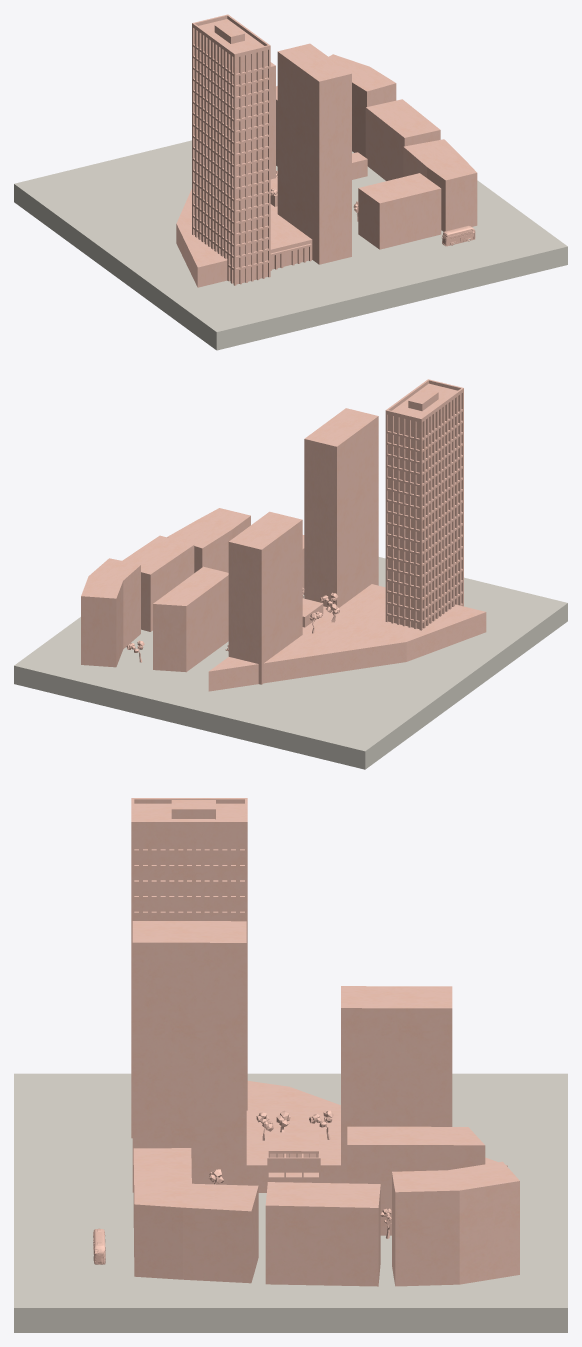
The picture shows the model from 3 angles, top to bottom: view 1: azimuth 30°, elevation 25°; view 2: azimuth 150°, elevation 25°; view 3: azimuth 270°, elevation 25°; orthographic projection. The views are drawn at different scales.
Visible parts, largest first — view 1: Buildings, Base, Bus; view 2: Buildings, Base; view 3: Buildings, Base.
Part boxes in pixels (left/top/right/bottom): Buildings: left=176, top=14, right=477, bottom=287; Base: left=14, top=140, right=567, bottom=350; Bus: left=441, top=225, right=475, bottom=246; Buildings: left=81, top=379, right=486, bottom=691; Base: left=14, top=557, right=567, bottom=769; Buildings: left=131, top=798, right=519, bottom=1286; Base: left=14, top=1073, right=567, bottom=1332.
Bounding box in the file's own units: 200 × 138 × 200.
2 materials, 1 textured.
